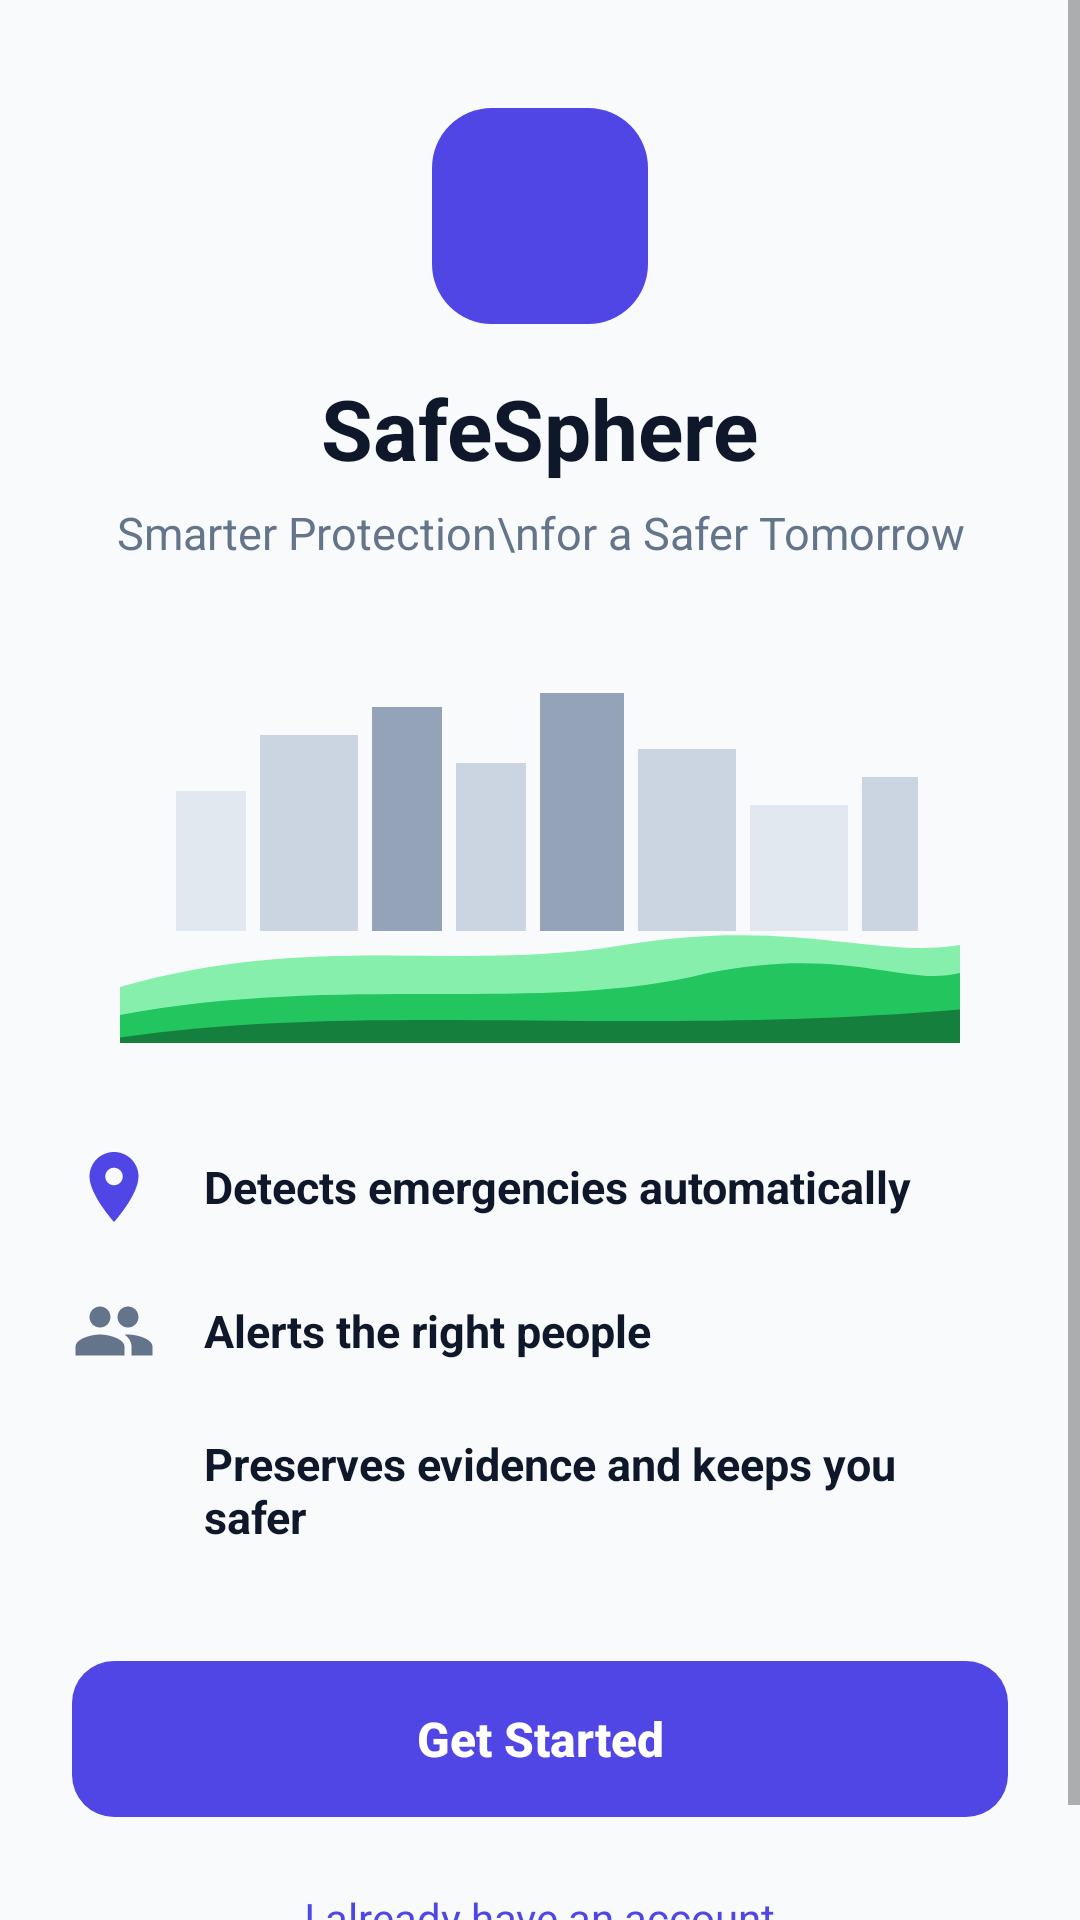

Icons on this 1080x1920 Android screen, each with the point to tap as point (x, y):
contacts: point (114, 1331)
pin: point (114, 1187)
